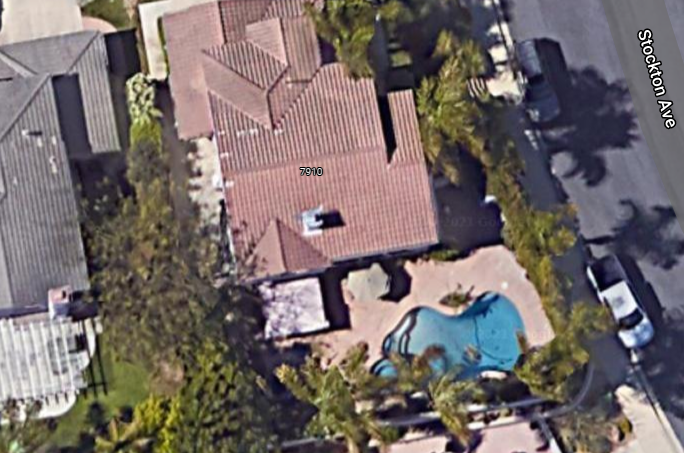poolww: (364, 288, 535, 405)
